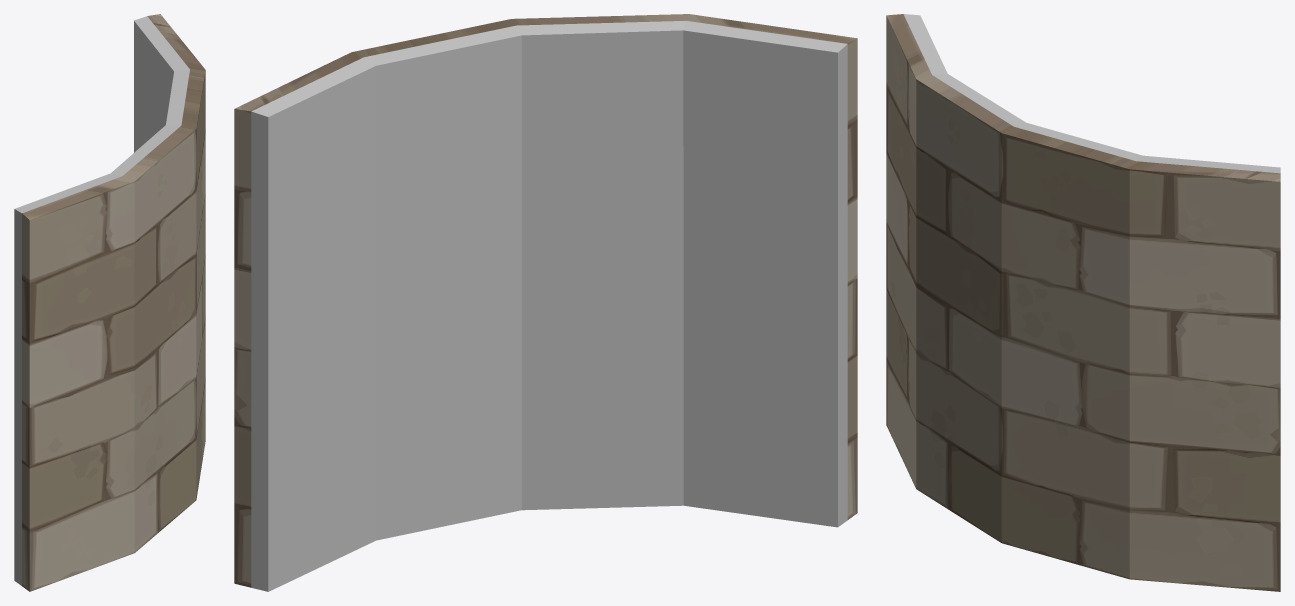
File: SM_Bld_Wall_Curved_01.fbx
3 views of the same model, side by side, from view 1: azimuth 30°, elevation 25°; view 2: azimuth 150°, elevation 25°; view 3: azimuth 270°, elevation 25° (orthographic). The views are drawn at different scales.
Visible parts, largest first — view 1: SM_Bld_Wall_Curved_01; view 2: SM_Bld_Wall_Curved_01; view 3: SM_Bld_Wall_Curved_01.
Part boxes in pixels (x1,y1,x2,y2): SM_Bld_Wall_Curved_01: [14, 14, 205, 591]; SM_Bld_Wall_Curved_01: [234, 14, 857, 591]; SM_Bld_Wall_Curved_01: [886, 14, 1280, 591].
Bounding box in the file's own units: 261 × 301 × 261.
